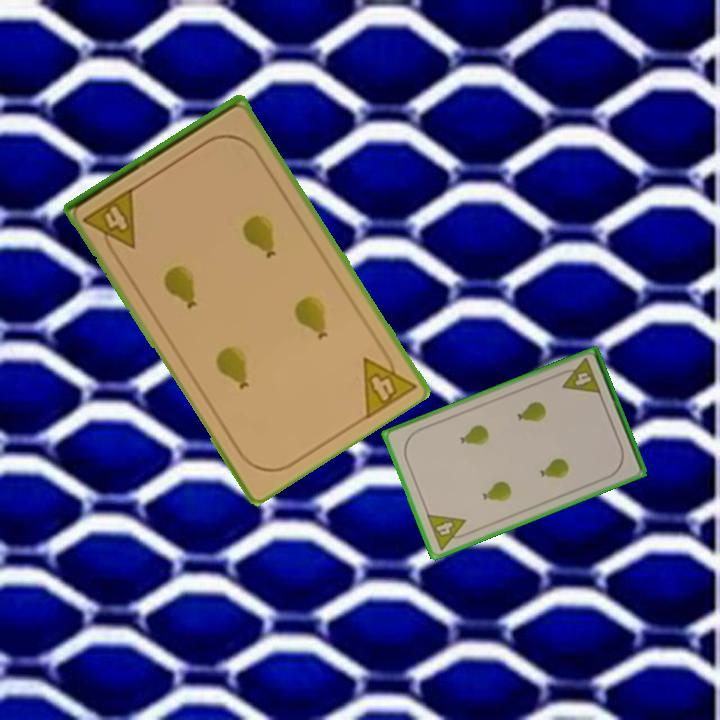4p: (359, 340, 419, 422), (80, 184, 140, 260), (423, 510, 473, 553), (555, 355, 604, 397)
